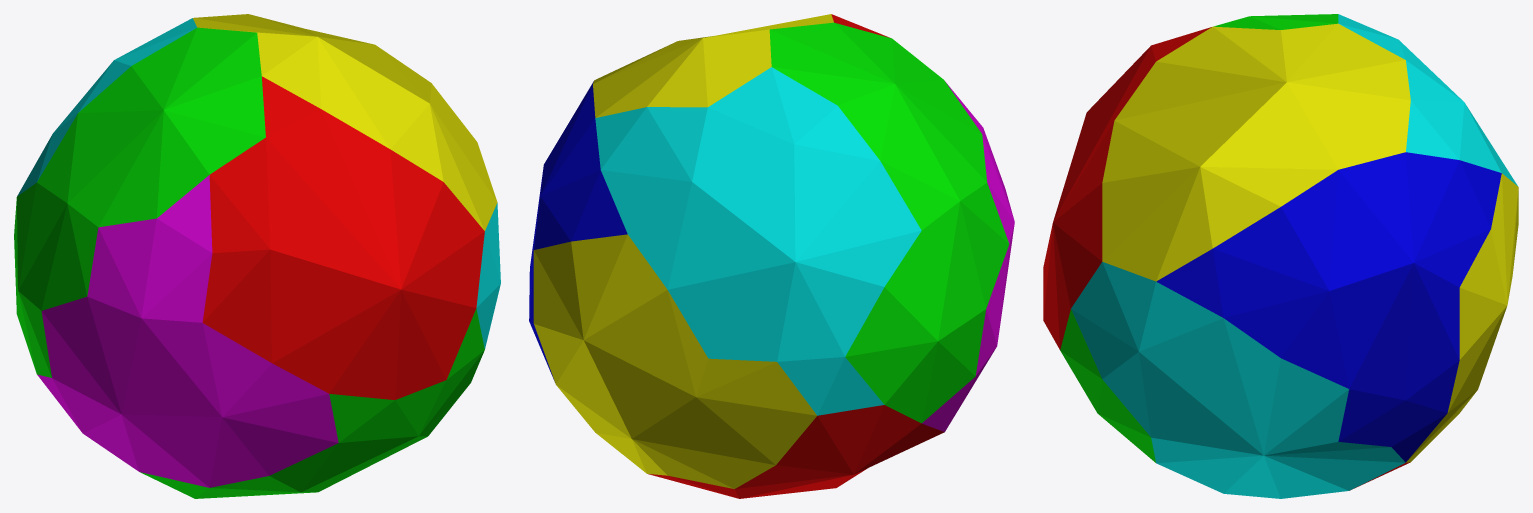
The picture shows the model from 3 angles, left to right: view 1: azimuth 30°, elevation 25°; view 2: azimuth 150°, elevation 25°; view 3: azimuth 270°, elevation 25°; orthographic projection.
Size of the model in its own units: 5.09 by 5.09 by 4.9.
